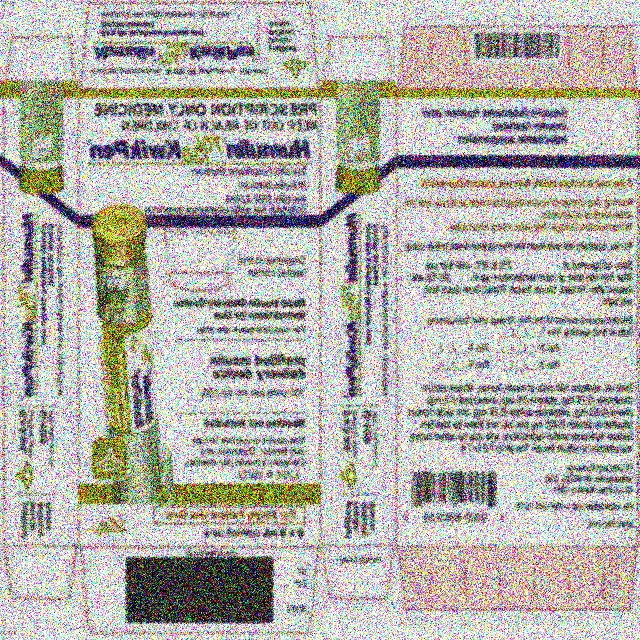Artwork: (0, 0, 640, 640)
Back_Panel: (396, 89, 639, 547)
Bottom_Part: (81, 548, 320, 635)
Extra_Areas: (397, 23, 638, 89), (399, 548, 639, 612), (320, 35, 395, 92), (320, 546, 397, 601), (5, 35, 79, 91), (2, 546, 79, 599)
Front_Panel: (80, 93, 321, 547)
Side_Panel: (321, 90, 397, 545), (2, 92, 77, 547)
Top_Panel: (79, 1, 320, 93)
